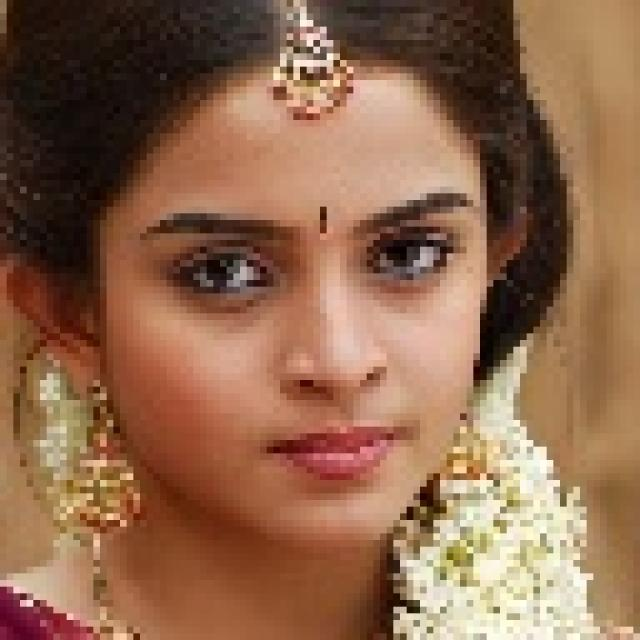angry: (62, 36, 501, 566)
